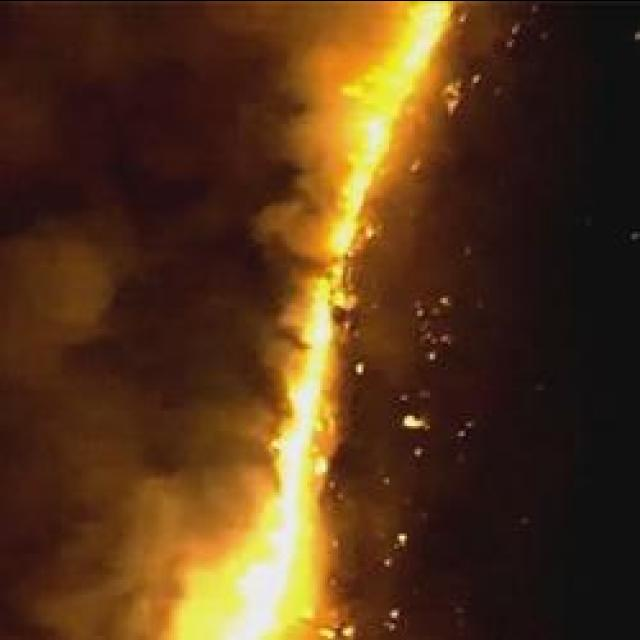fire: (294, 304, 332, 474), (235, 544, 285, 640), (351, 74, 395, 180), (399, 1, 443, 66)
smoke: (88, 474, 183, 624), (46, 563, 222, 640), (188, 399, 274, 525), (266, 42, 334, 174), (248, 188, 326, 274)
